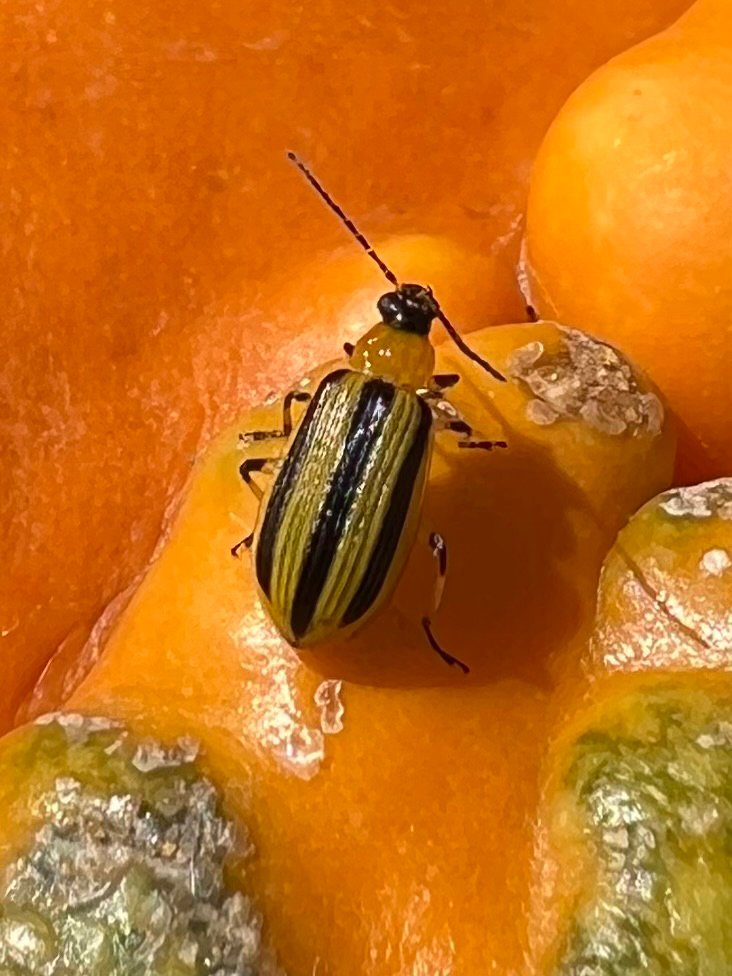potato_beetle: (42, 65, 705, 780)
